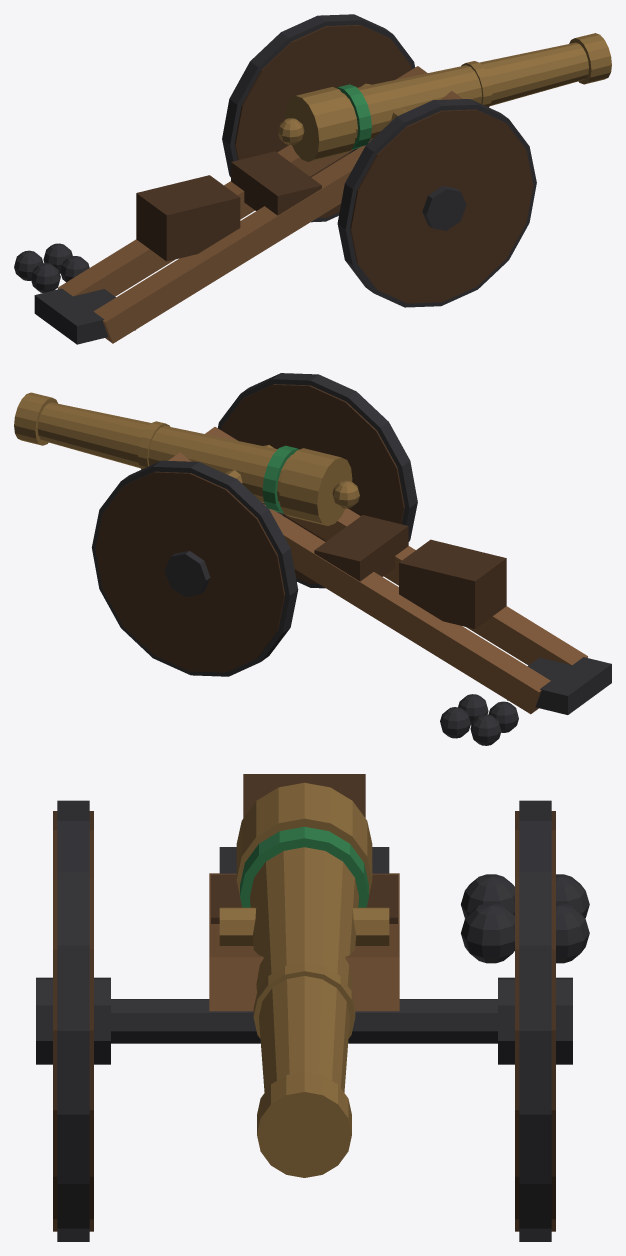
Rendered from top.glb.
3 renders of one model, top to bottom at view 1: azimuth 30°, elevation 25°; view 2: azimuth 150°, elevation 25°; view 3: azimuth 270°, elevation 25°, orthographic. The views are drawn at different scales.
Visible parts, largest first — view 1: Body, Barrel; view 2: Body, Barrel; view 3: Body, Barrel.
Part boxes in pixels (left/top/right/bottom): Body: left=14, top=14, right=536, bottom=344; Barrel: left=278, top=33, right=611, bottom=161; Body: left=91, top=373, right=611, bottom=745; Barrel: left=14, top=392, right=359, bottom=525; Body: left=36, top=774, right=589, bottom=1241; Barrel: left=219, top=782, right=389, bottom=1177.
Bounding box in the file's own units: 3.7 × 1.3 × 1.63.
